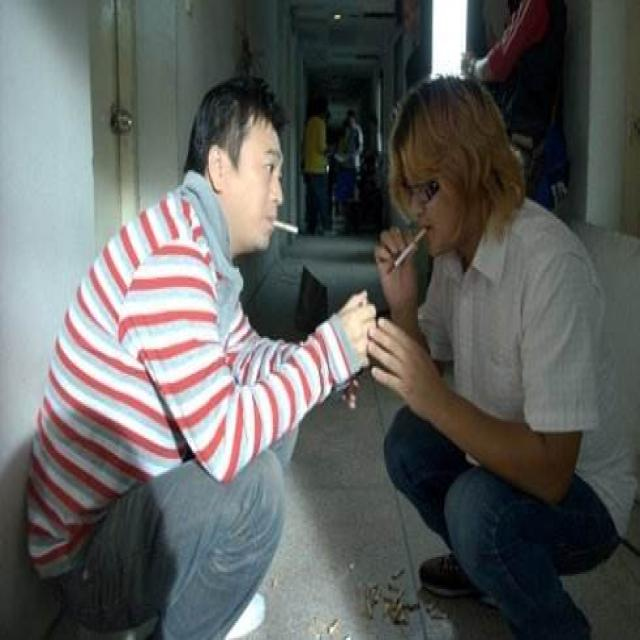cigarette: (384, 226, 433, 277), (268, 210, 300, 242)
